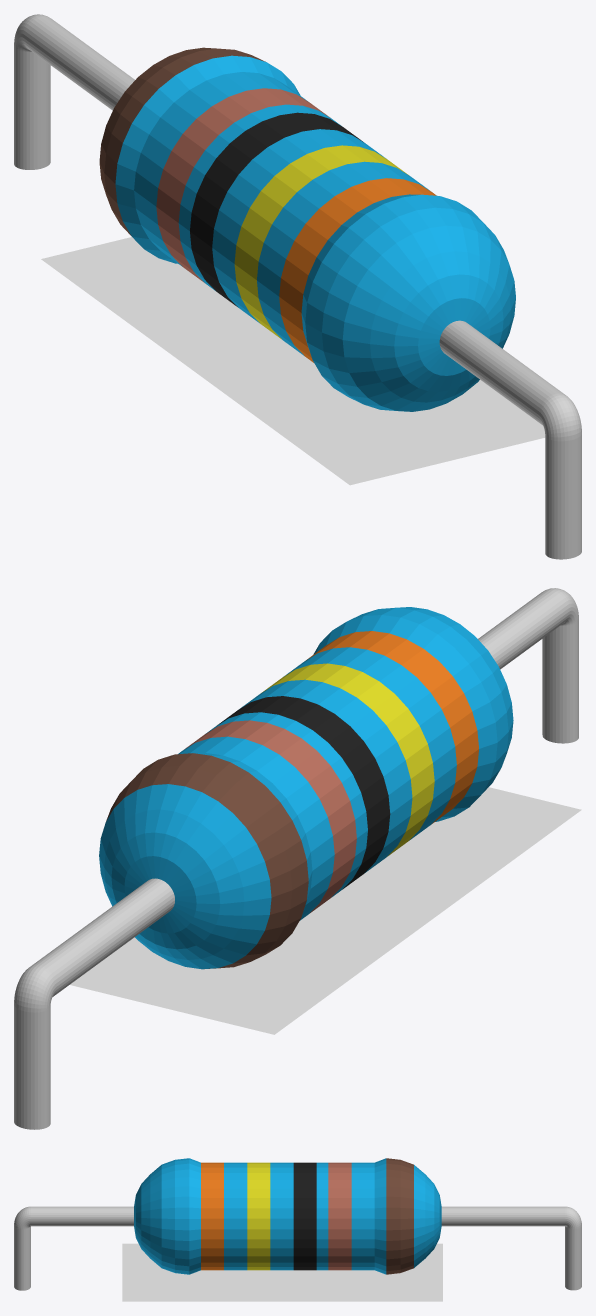
3 views of the same model, one above another, from view 1: azimuth 30°, elevation 25°; view 2: azimuth 150°, elevation 25°; view 3: azimuth 270°, elevation 25° (orthographic). The views are drawn at different scales.
Visible parts, largest first — view 1: R_10, R_10_plane; view 2: R_10, R_10_plane; view 3: R_10, R_10_plane.
Boxes of the visible parts, x1=… form: R_10: x1=14, y1=14, x2=581, y2=559; R_10_plane: x1=41, y1=237, x2=545, y2=485; R_10: x1=14, y1=588, x2=578, y2=1129; R_10_plane: x1=70, y1=787, x2=581, y2=1034; R_10: x1=14, y1=1158, x2=581, y2=1290; R_10_plane: x1=122, y1=1243, x2=442, y2=1301.
Size of the model in its own units: 0.0161 by 0.0159 by 0.0664.
